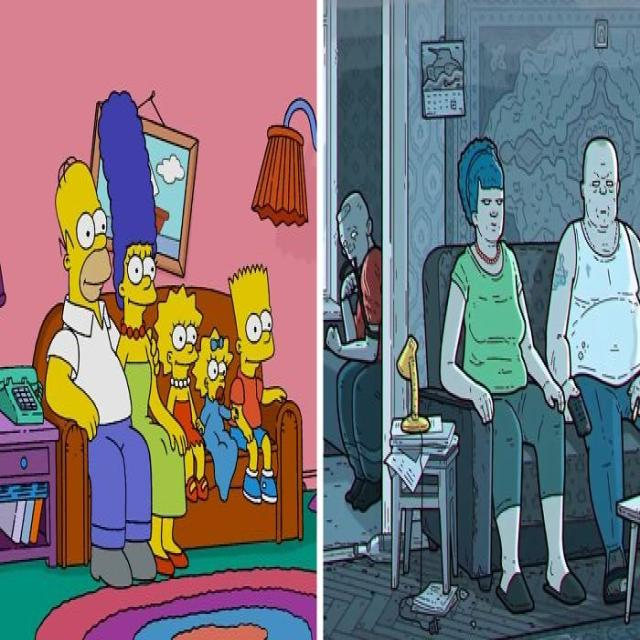Bart Simpson: (228, 262, 275, 382)
Homer Simpson: (54, 153, 114, 320)
Lisa Simpson: (154, 283, 206, 392)
Maggie Simpson: (190, 324, 234, 406)
Marge Simpson: (96, 85, 158, 339)
